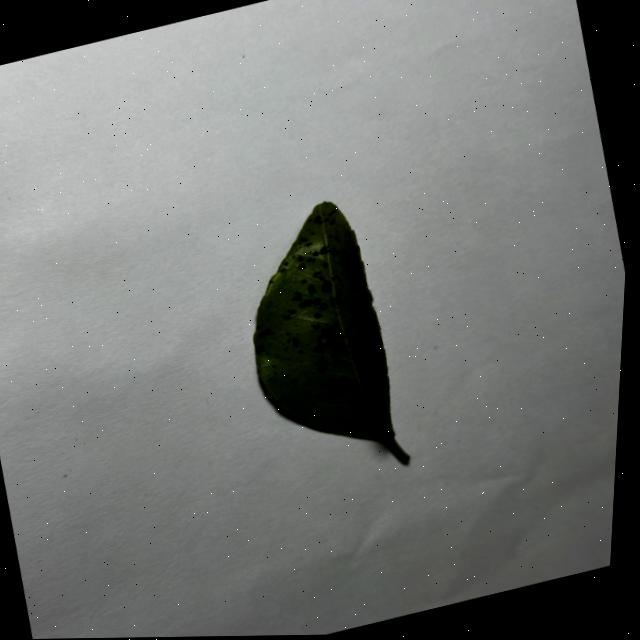sooty_mold: (253, 202, 409, 464)
